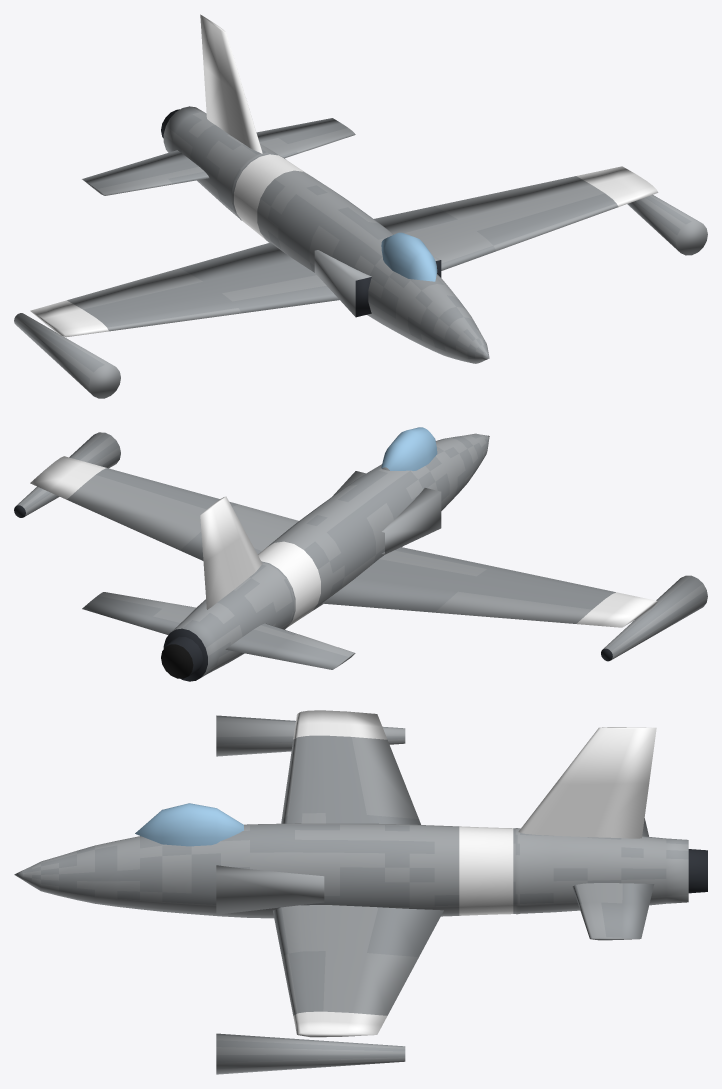
3 views of the same model, one above another, from view 1: azimuth 30°, elevation 25°; view 2: azimuth 150°, elevation 25°; view 3: azimuth 270°, elevation 25° (orthographic). The views are drawn at different scales.
Parts seen in each view (by area): view 1: body; view 2: body; view 3: body.
Part boxes in pixels (bbox=[...]): body: bbox=[14, 14, 707, 398]; body: bbox=[14, 427, 707, 681]; body: bbox=[14, 710, 707, 1074].
Size of the model in its own units: 12.34 by 3.21 by 10.79.
